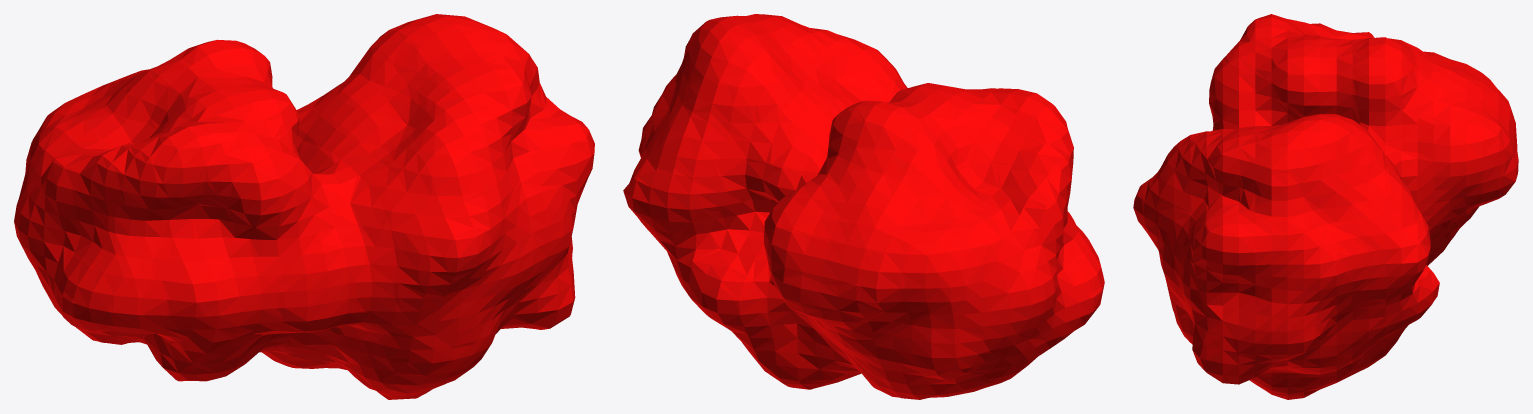
Rendered from rfaB_coarse.dae.
3 renders of one model, left to right at view 1: azimuth 30°, elevation 25°; view 2: azimuth 150°, elevation 25°; view 3: azimuth 270°, elevation 25°, orthographic. The views are drawn at different scales.
Parts seen in each view (by area): view 1: rfaB; view 2: rfaB; view 3: rfaB.
Part boxes in pixels (x1,y1,x2,y2): rfaB: (14, 14, 594, 399); rfaB: (623, 14, 1104, 399); rfaB: (1133, 14, 1518, 399).
Size of the model in its own units: 70.18 by 49.43 by 56.78.
